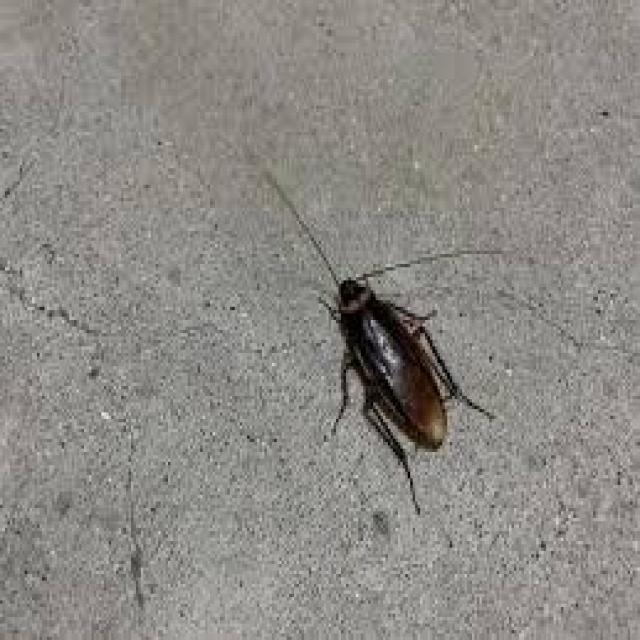Cockroach: (236, 133, 536, 532)
